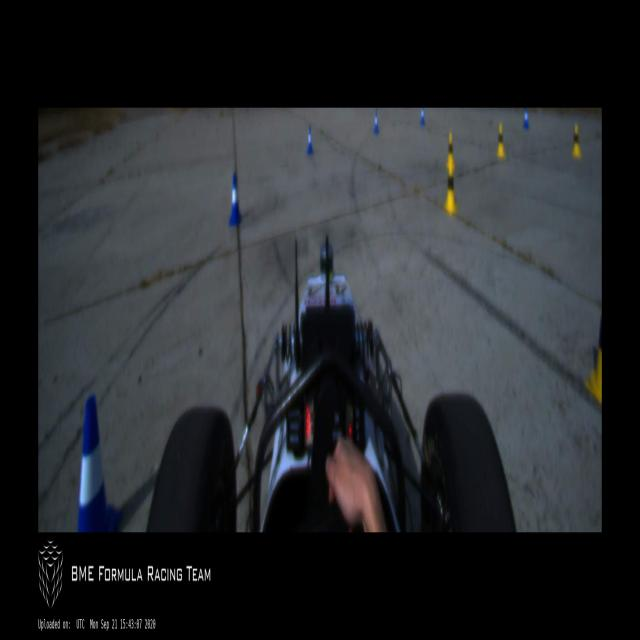blue_cone: (77, 394, 123, 531), (229, 172, 242, 228), (306, 124, 313, 156), (373, 111, 379, 135), (523, 108, 529, 129), (420, 108, 425, 126)
yellow_cone: (443, 161, 458, 214), (445, 131, 455, 171), (571, 122, 582, 158), (497, 123, 505, 160)
